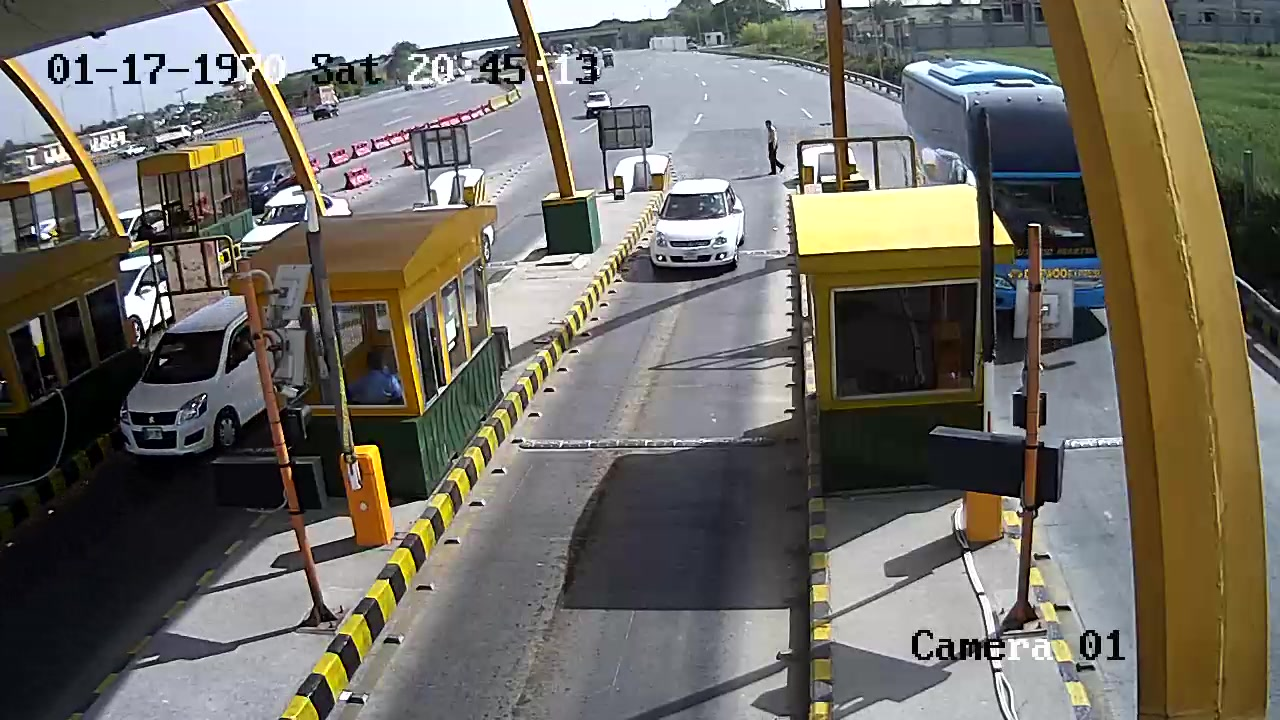F1: (648, 170, 753, 279)
